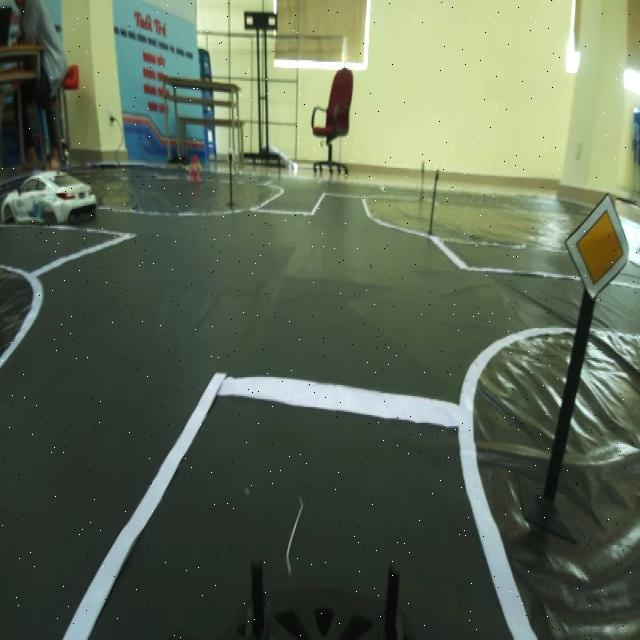priority: (568, 198, 636, 312)
